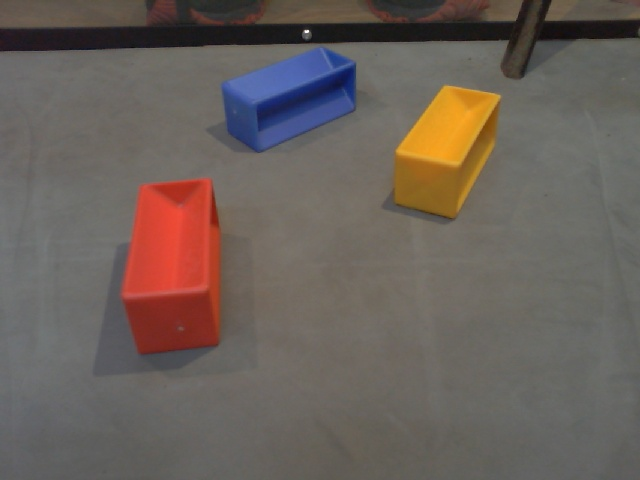BlueSample: (220, 45, 357, 154)
RedSample: (117, 176, 225, 358)
YellowSample: (389, 81, 503, 224)
